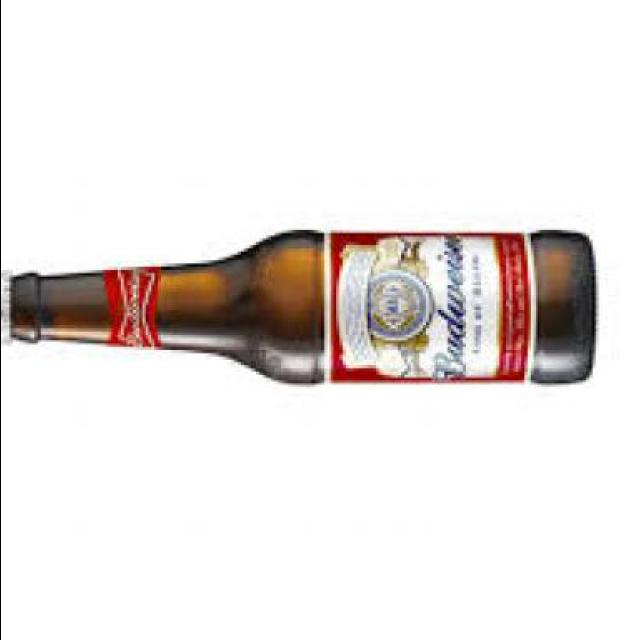kaca: (7, 230, 595, 387)
